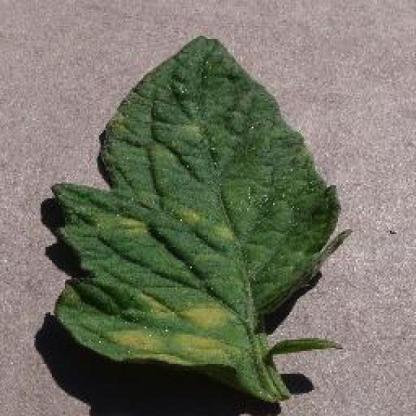Tomato_Leaf_Mold: (54, 42, 341, 365)
